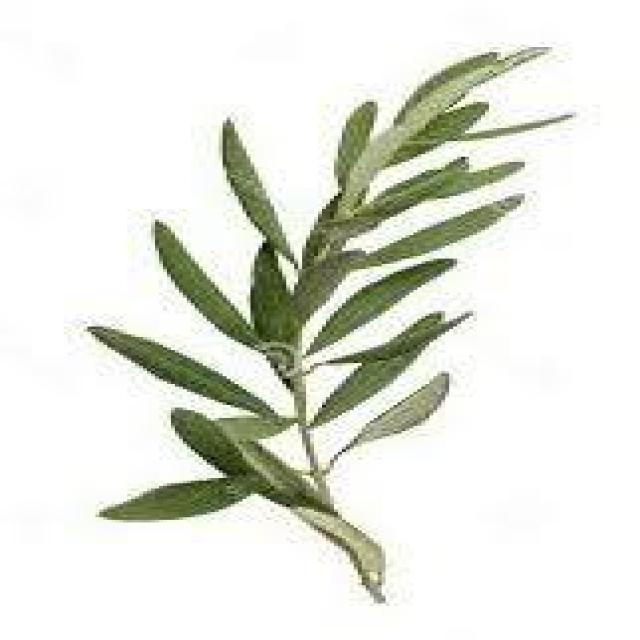Healthy: (87, 327, 270, 413), (310, 259, 449, 347), (155, 222, 254, 345), (328, 371, 448, 468), (223, 120, 294, 264)
